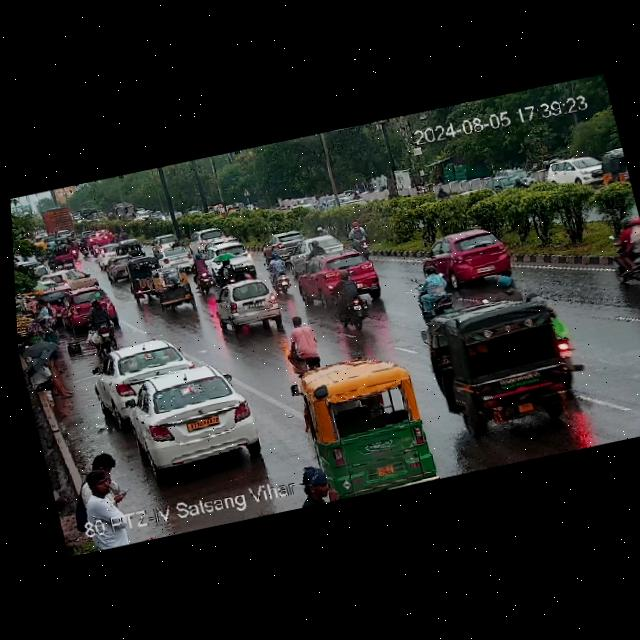bus: (273, 341, 443, 507)
car: (418, 287, 587, 436), (120, 358, 268, 476), (92, 333, 196, 410), (425, 221, 521, 290), (209, 275, 280, 335), (203, 236, 260, 281), (149, 265, 198, 314), (34, 263, 98, 296), (123, 257, 162, 303), (185, 225, 230, 256), (262, 228, 308, 258), (602, 146, 631, 187), (104, 253, 139, 283), (158, 245, 190, 271), (48, 245, 73, 267), (154, 233, 182, 252)
motorcycle: (404, 261, 461, 319), (280, 311, 324, 378), (333, 267, 372, 311), (345, 219, 381, 254), (266, 251, 295, 292), (190, 253, 218, 291), (214, 248, 243, 284), (67, 239, 82, 259), (78, 239, 93, 257), (114, 229, 133, 243)
person: (63, 446, 133, 522), (81, 291, 124, 354), (26, 357, 75, 407), (288, 459, 336, 507), (36, 319, 62, 375), (32, 296, 62, 335)
truck: (598, 212, 640, 292), (39, 206, 77, 240)
